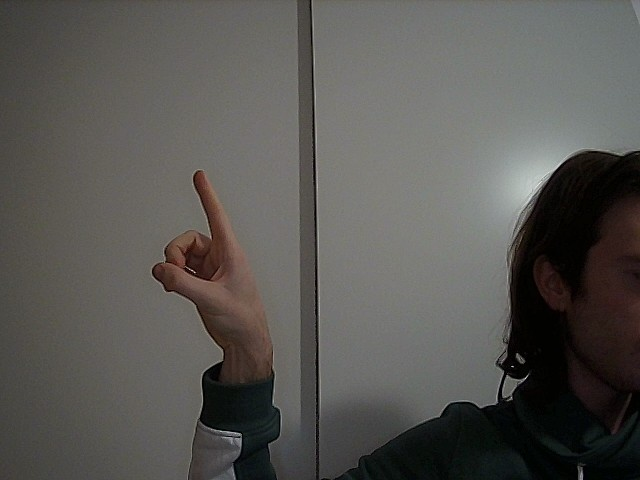d: (126, 161, 300, 356)
